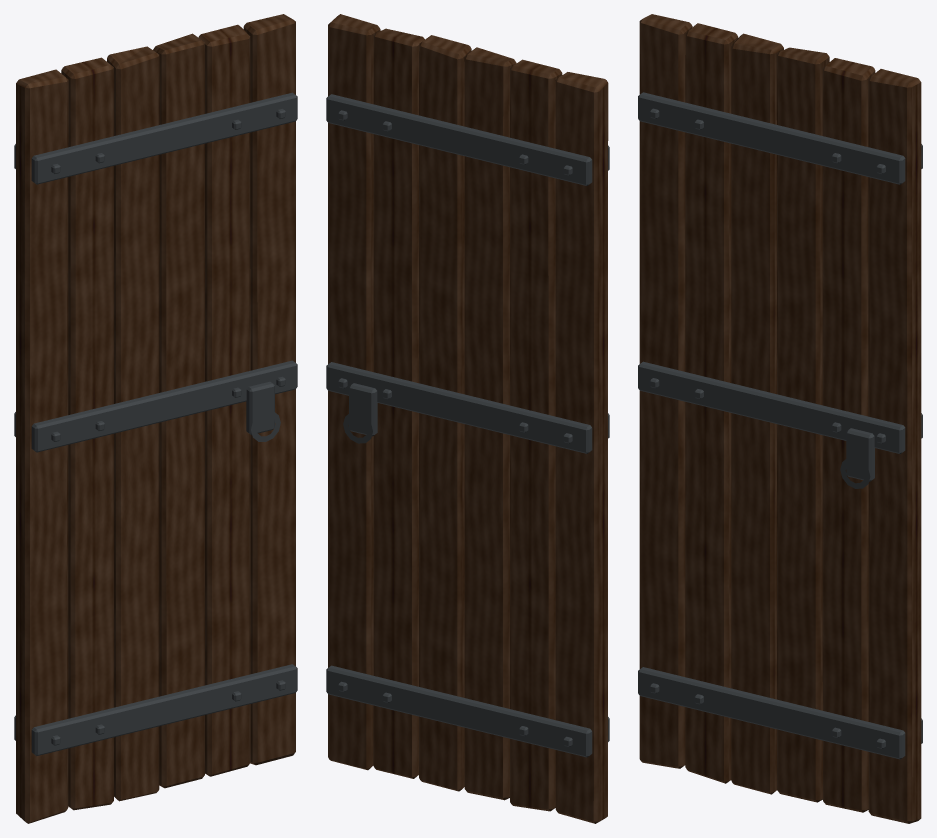
Rendered from door_iron.glb.
The picture shows the model from 3 angles, left to right: view 1: azimuth 30°, elevation 25°; view 2: azimuth 150°, elevation 25°; view 3: azimuth 330°, elevation 25°; orthographic projection.
Visible parts, largest first — view 1: door_iron; view 2: door_iron; view 3: door_iron.
Boxes of the visible parts, bbox=[...] form: door_iron: bbox=[14, 14, 297, 823]; door_iron: bbox=[326, 14, 609, 823]; door_iron: bbox=[638, 14, 922, 823].
Bounding box in the file's own units: 0.7944 × 2.08 × 0.18.
2 materials, 1 textured.
